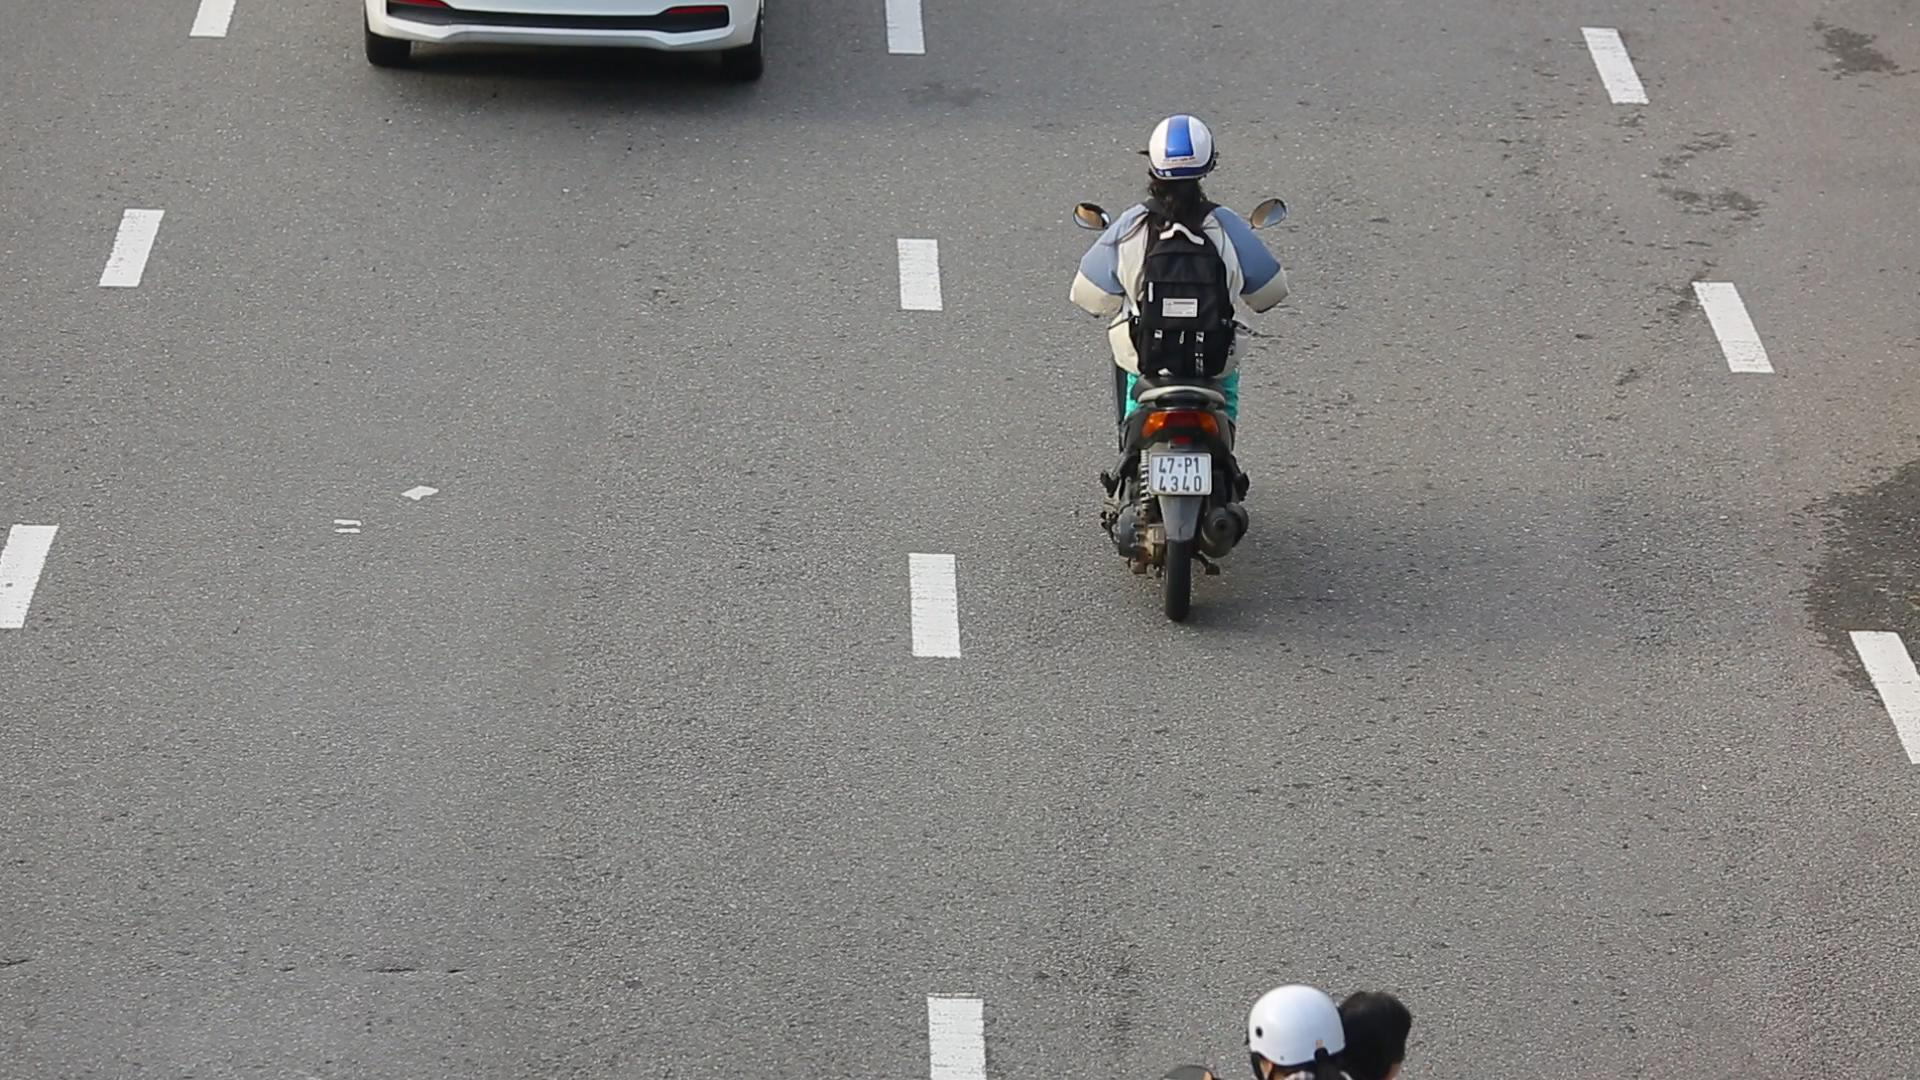motobike: (1062, 102, 1298, 636)
